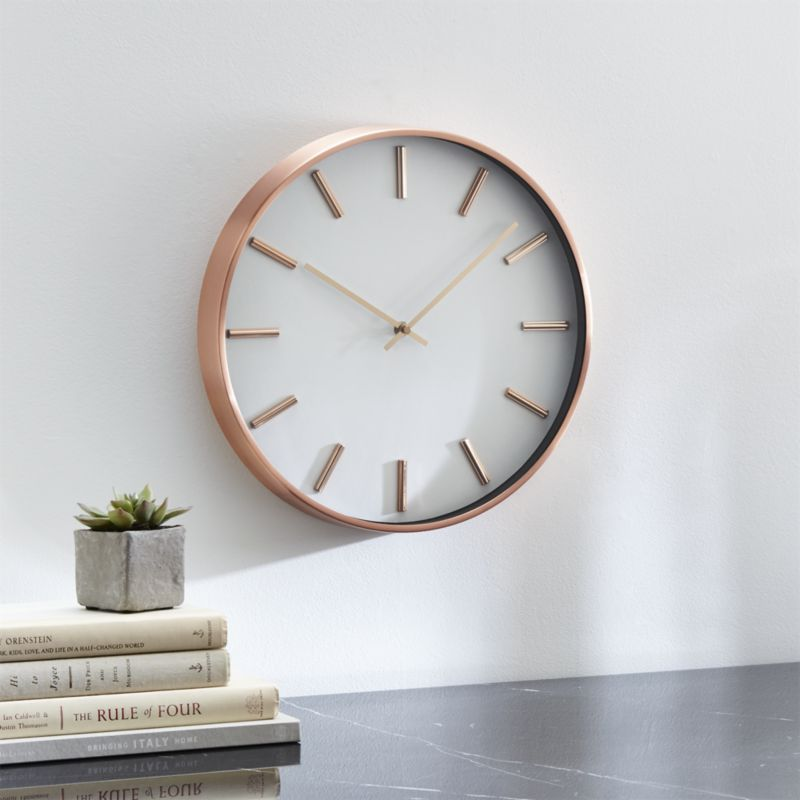clock: (224, 133, 587, 530)
